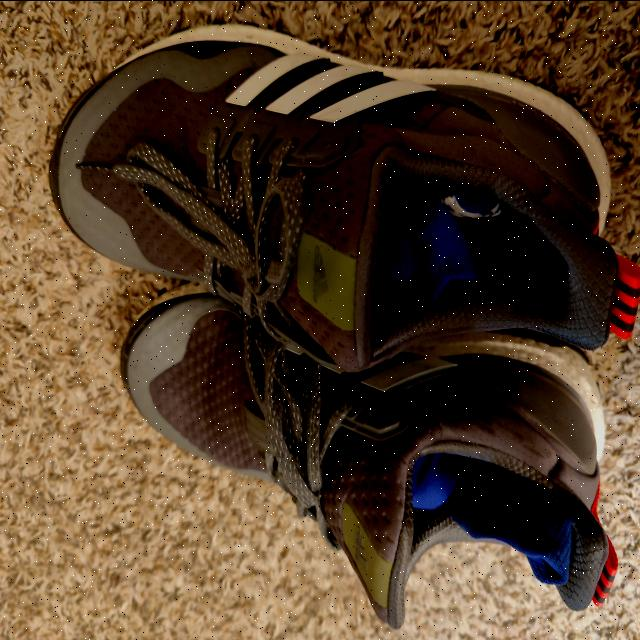black shoes: (43, 28, 630, 620)
